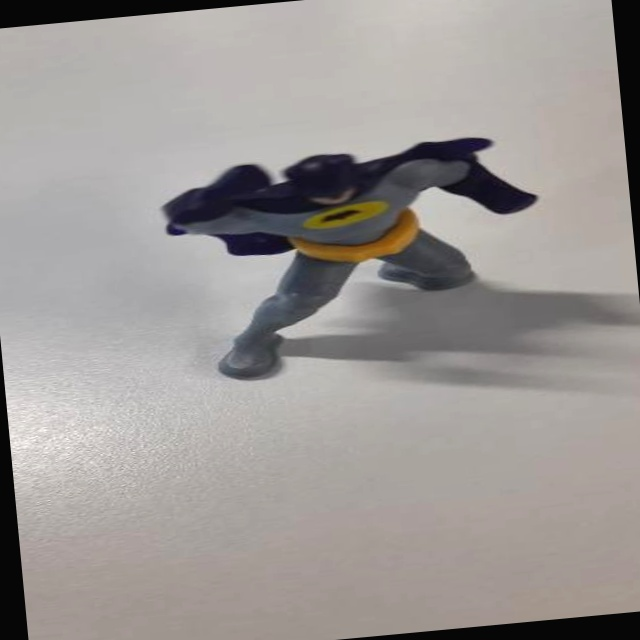Batman: (132, 114, 574, 423)
